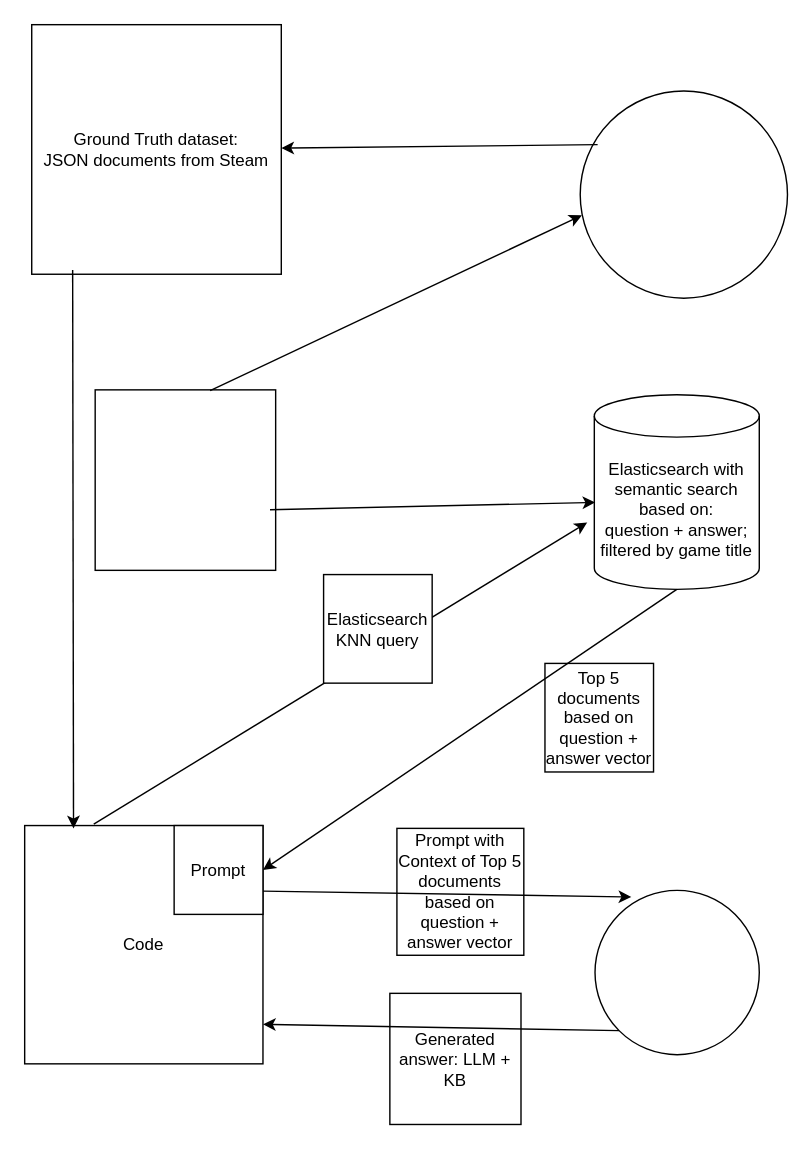
This 812x1149 diagram has some shape labels left out. The shapes that lost their labels are listed below. From the top down, each one's centre as x and y in pixels, then its label:
(683,194): LLM generates 5 possible questions related to each pulled review
(185,479): Steam PC games reviews
(676,972): LLM (Open AI)
